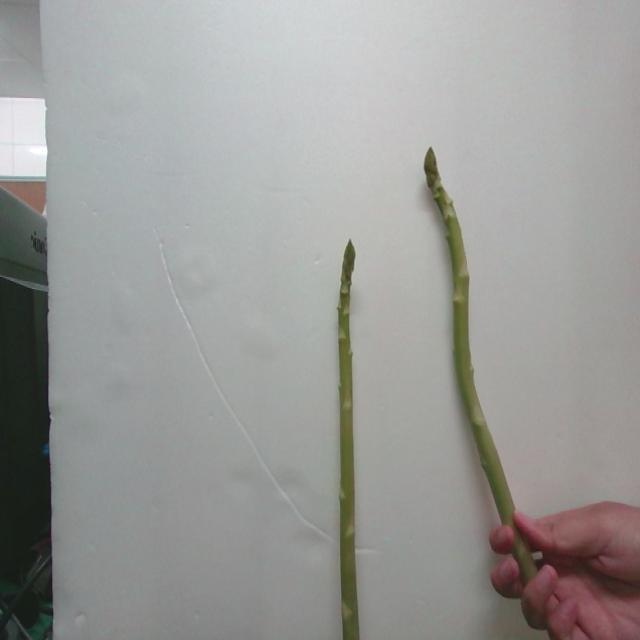aspargus: (425, 150, 517, 529), (339, 243, 363, 640)
